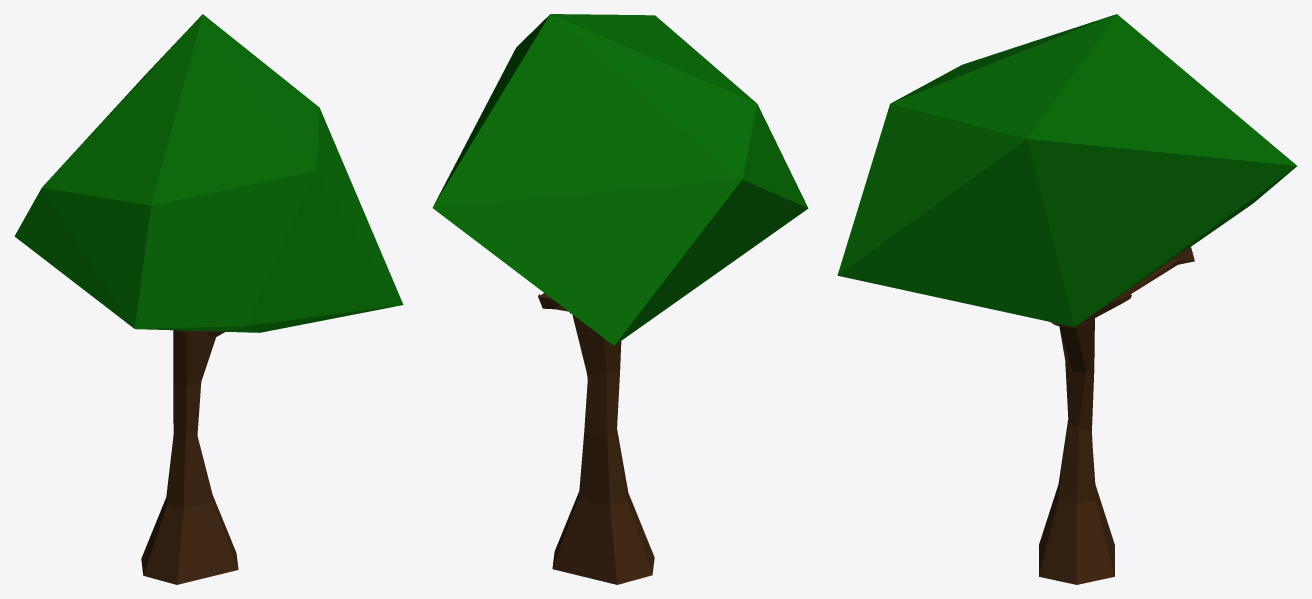
File: smallTree.fbx
3 renders of one model, left to right at view 1: azimuth 30°, elevation 25°; view 2: azimuth 150°, elevation 25°; view 3: azimuth 270°, elevation 25°, orthographic. The views are drawn at different scales.
Visible parts, largest first — view 1: Cube; view 2: Cube; view 3: Cube.
Boxes of the visible parts, box(x1,y1,x2,y2) form: Cube: box(14, 14, 403, 584); Cube: box(432, 14, 808, 584); Cube: box(837, 14, 1296, 584).
Size of the model in its own units: 176 by 361 by 268.
